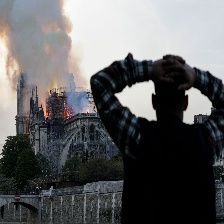fire: (44, 96, 74, 120)
smoke: (1, 1, 85, 94)
